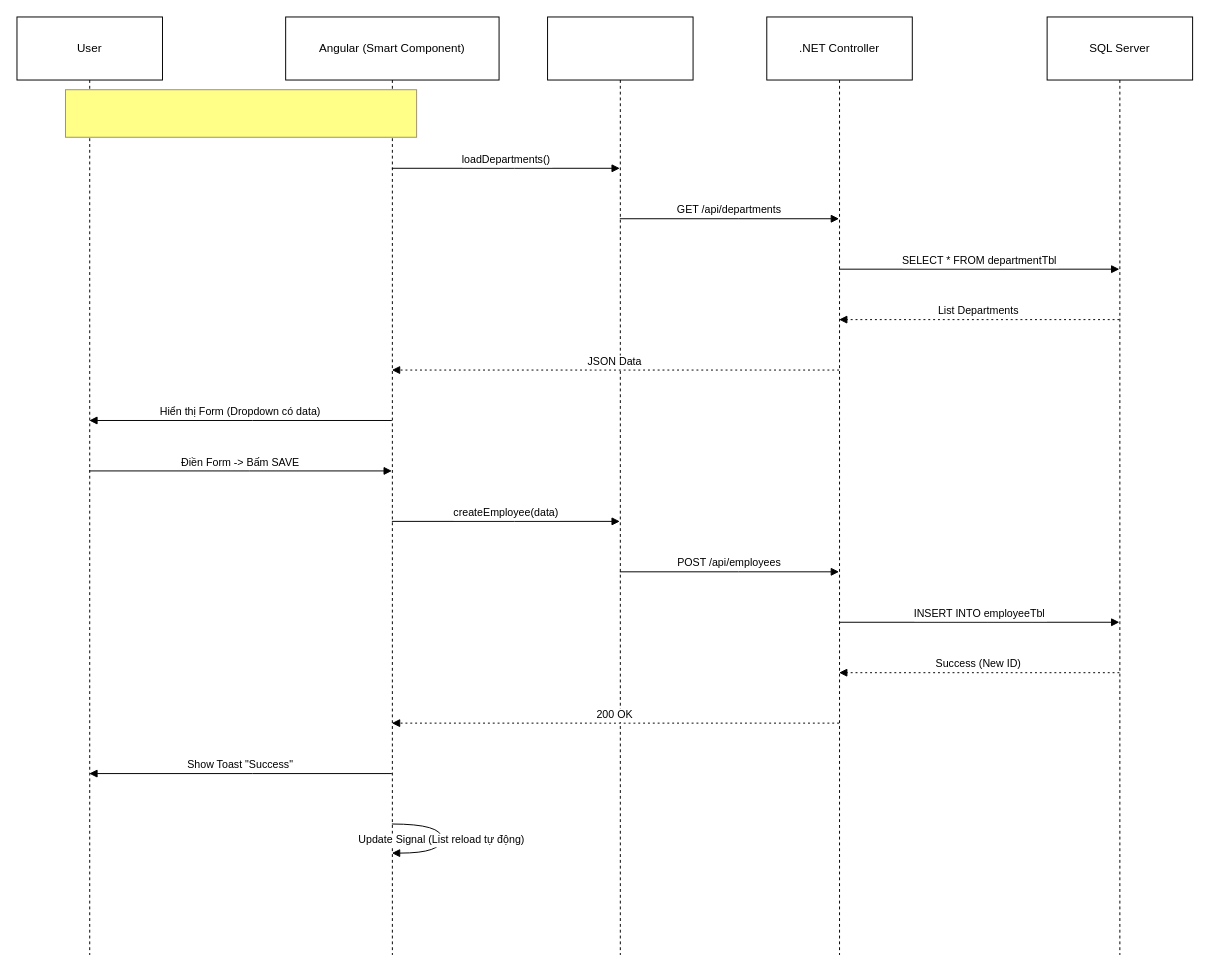
Image size: 1210x972. Some labels were removed from this diagram. Here are the shapes that lost their labels. From the top down, the box of each, then its label:
(65, 89, 417, 137): Mở trang "Add Employee"
(547, 16, 693, 955): EmployeeService
